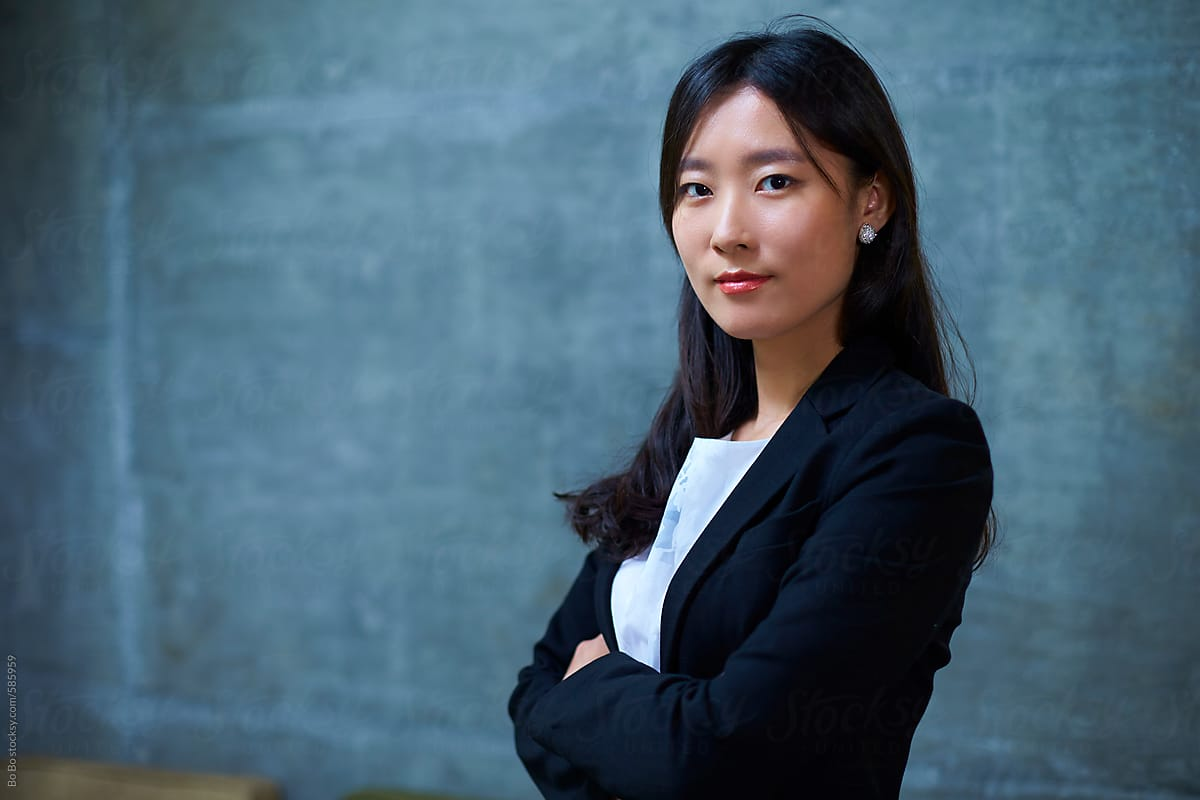bare: (665, 213, 861, 334)
